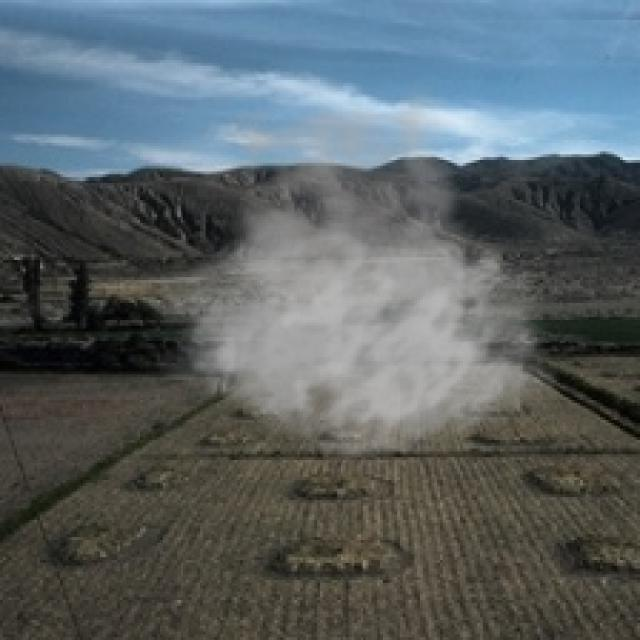smoke: (146, 74, 560, 460)
